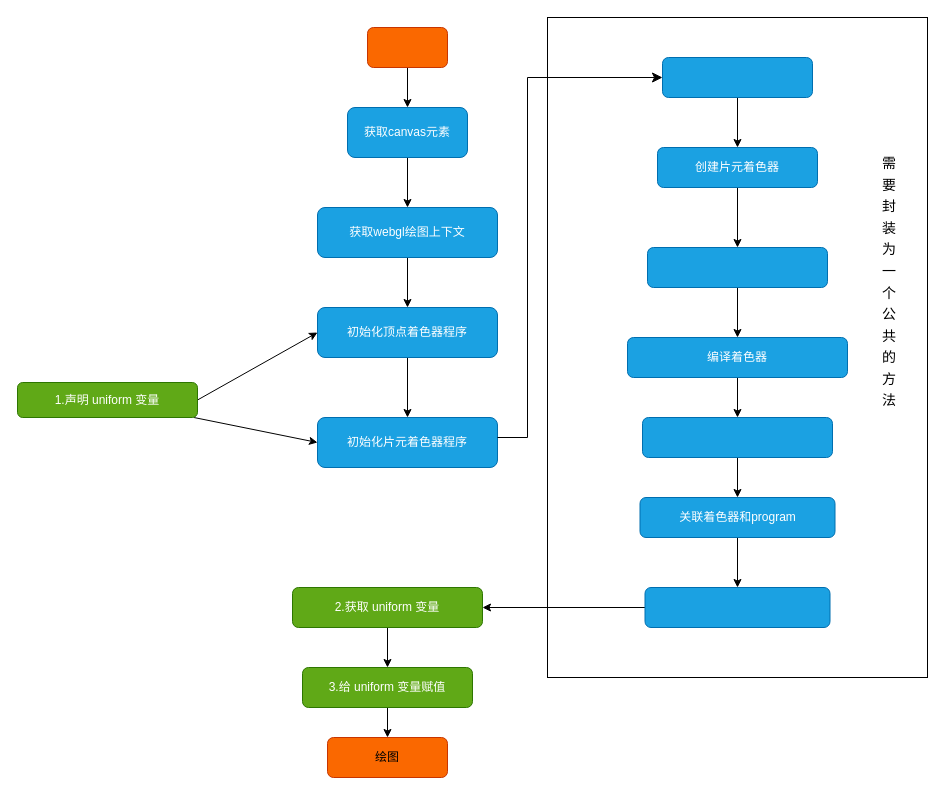
This 945x795 diagram has some shape labels left out. Here are the shapes that lost their labels. From the top down, the centre of each, then its label:
[407,47]: 开始
[737,77]: 创建顶点着色器
[737,267]: 关联着色器和着色器源码
[737,437]: 创建program
[737,607]: 使用program
